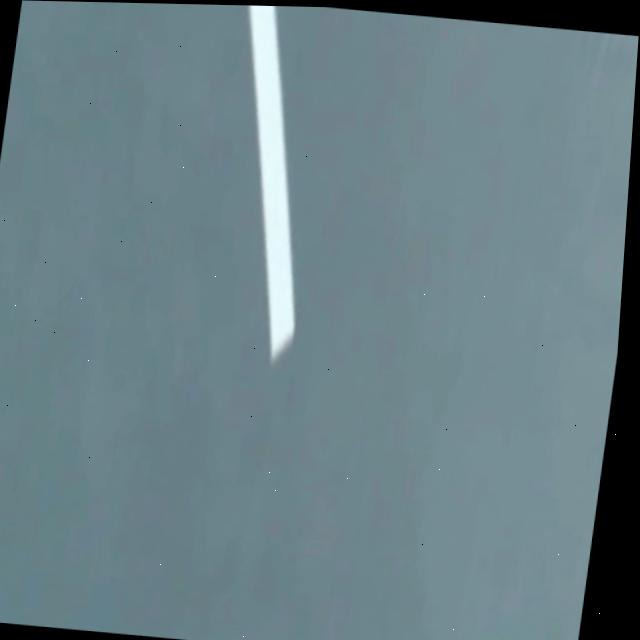center: (249, 6, 295, 360)
